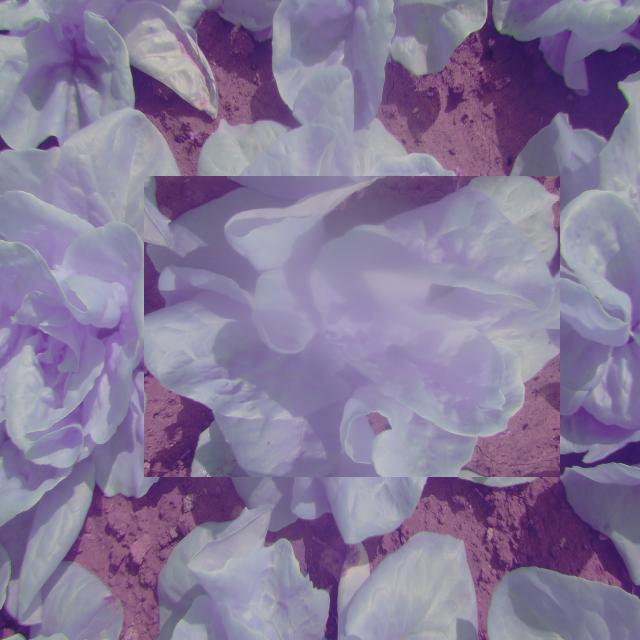vege: (172, 146, 532, 506)
